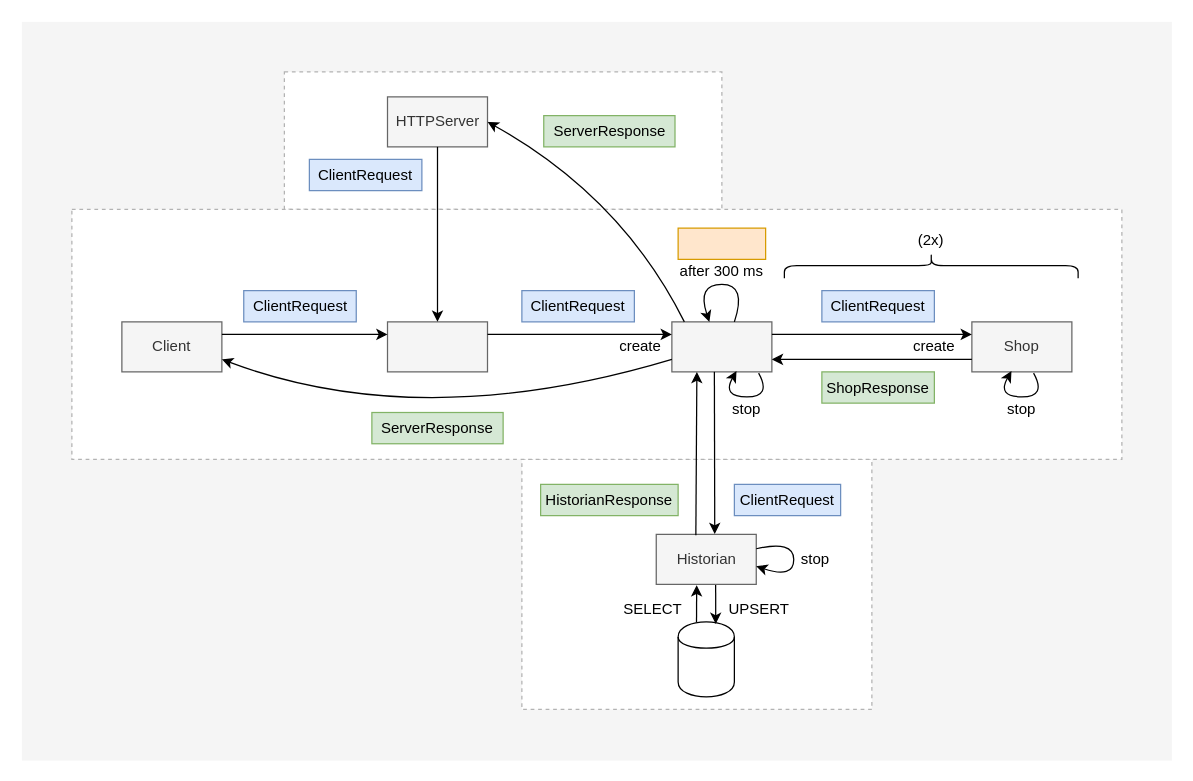
This 1193x781 diagram has some shape labels left out. Each missing label, with the centre of its shape:
"Server" goes at (437,346).
"SQLite" goes at (705,659).
"TimeoutPill" goes at (721,243).
"Worker" goes at (721,346).
